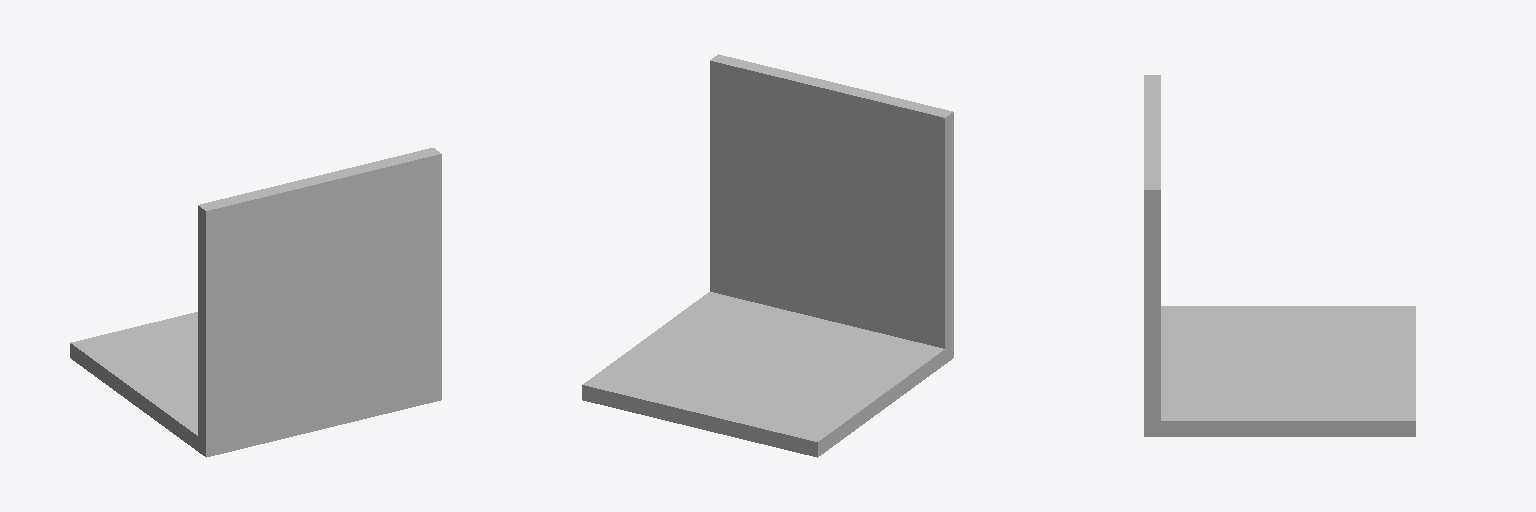
File: side_s.obj
The picture shows the model from 3 angles: view 1: azimuth 30°, elevation 25°; view 2: azimuth 150°, elevation 25°; view 3: azimuth 270°, elevation 25°; orthographic projection.
Visible parts, largest first — view 1: wall, floor; view 2: wall, floor; view 3: floor, wall.
Boxes of the visible parts, <box> form: wall: <box>198,148,441,441</box>; floor: <box>70,312,441,457</box>; wall: <box>710,54,953,348</box>; floor: <box>582,292,953,457</box>; floor: <box>1144,306,1415,436</box>; wall: <box>1144,75,1160,420</box>.
Size of the model in its own units: 16 by 16 by 16.